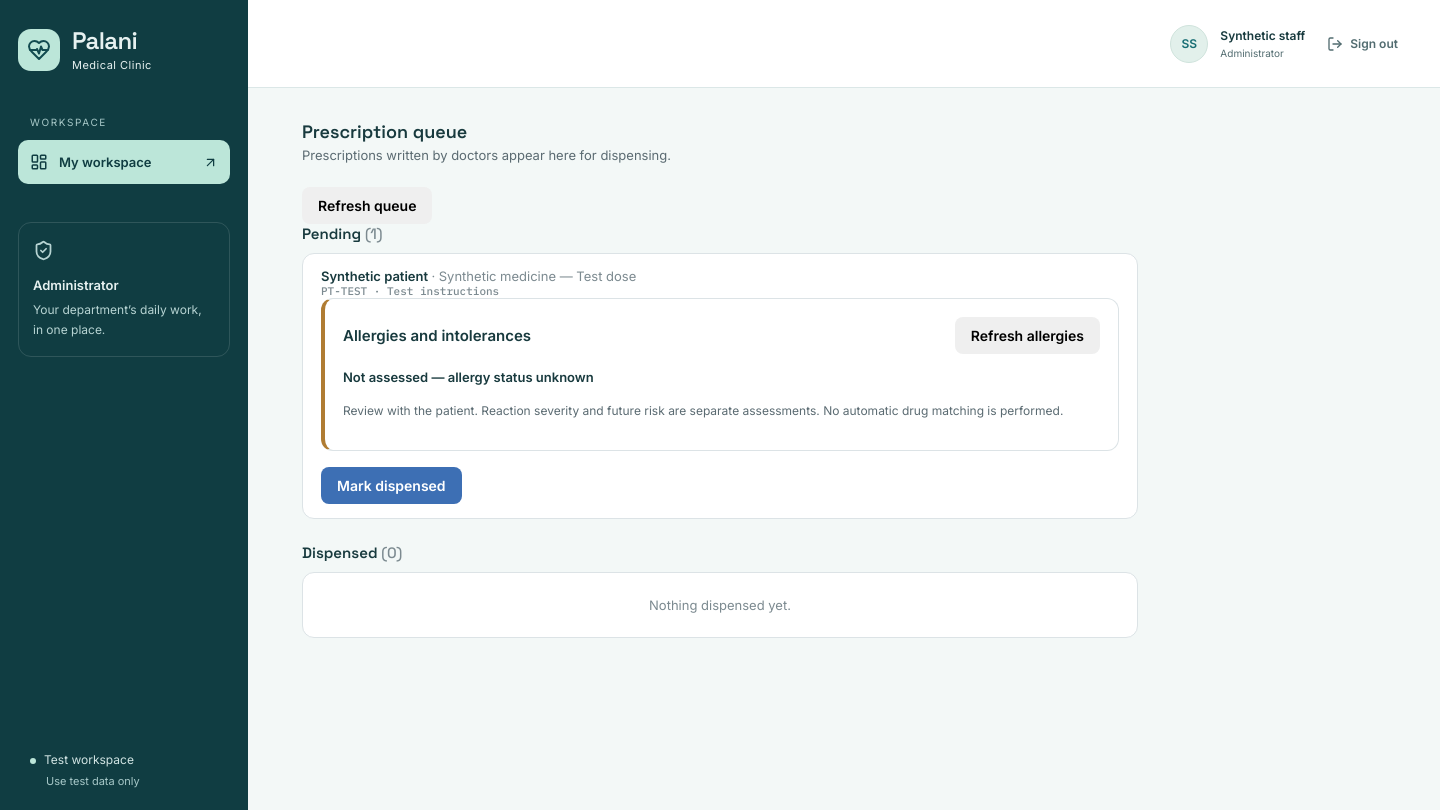
Test: pharmacy completion › records only confirmed dispensing and ignores duplicate clicks
The width and height of the screenshot is (1440, 810).
Step 1. Click the button "Mark dispensed" → (391, 486), box [321,467,462,504]
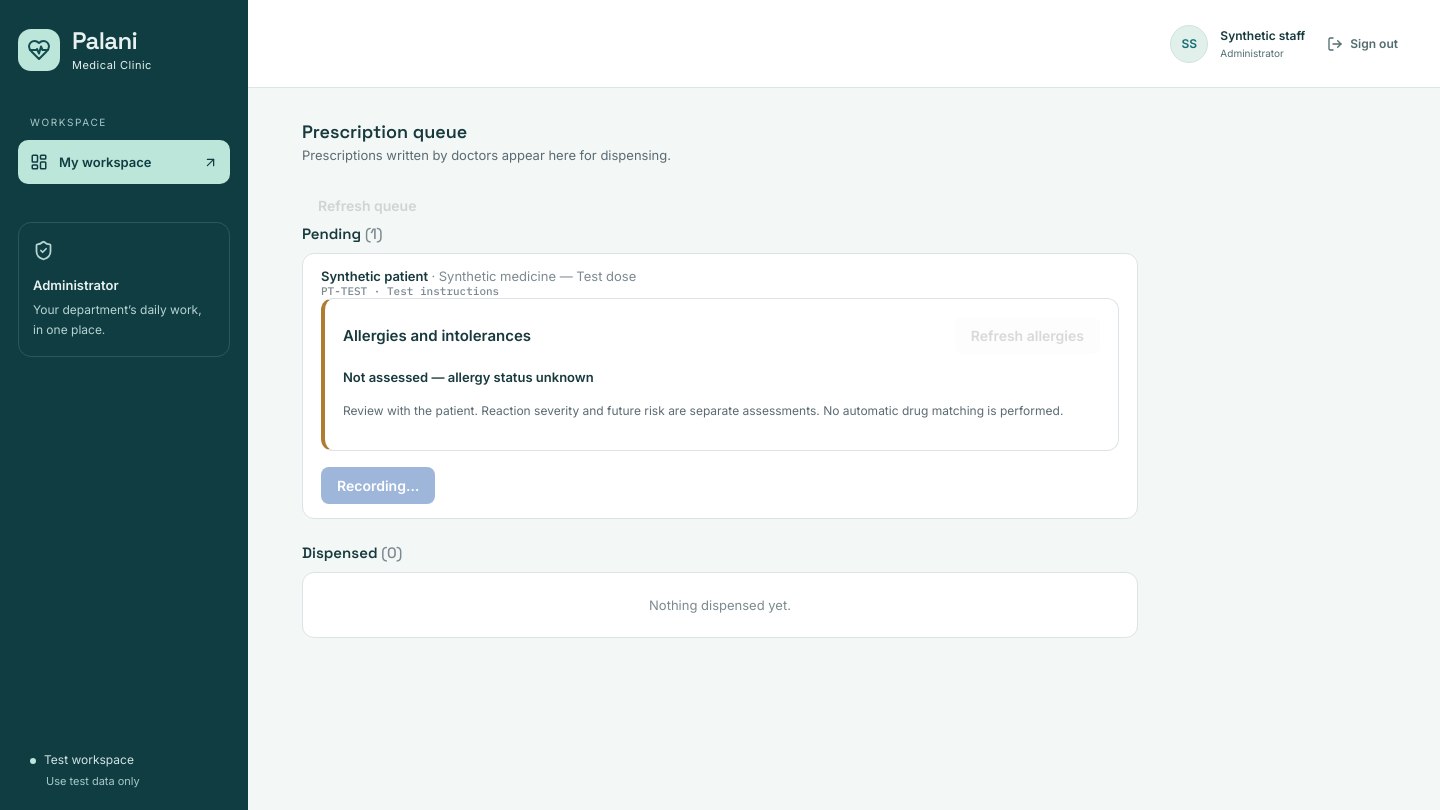
Step 2. Click the button named "Mark dispensed" → (378, 486), box [321,467,435,504]
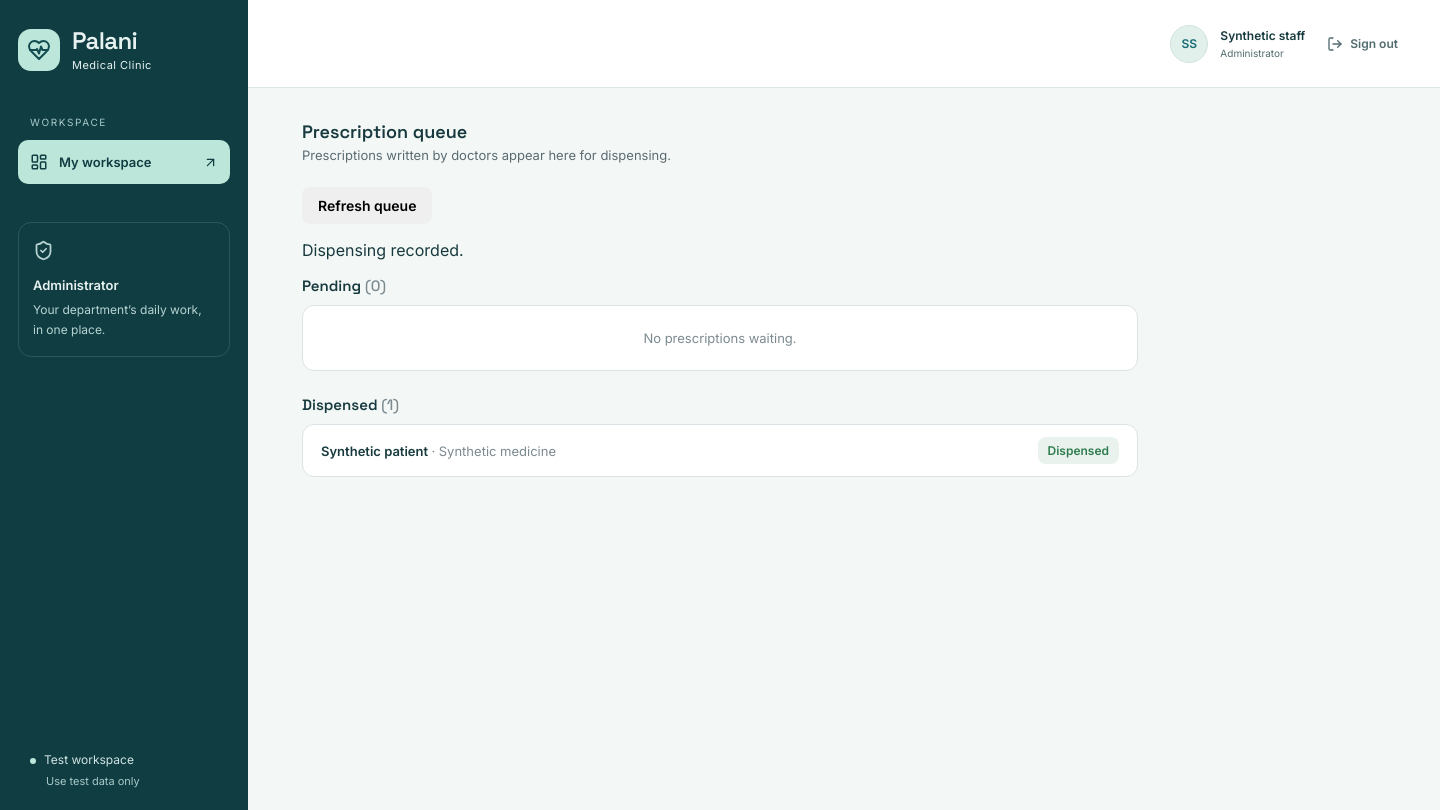
Expected: the button "Mark dispensed" is not shown
Now the text "Dispensing recorded." is shown, box [302,240,464,260]
